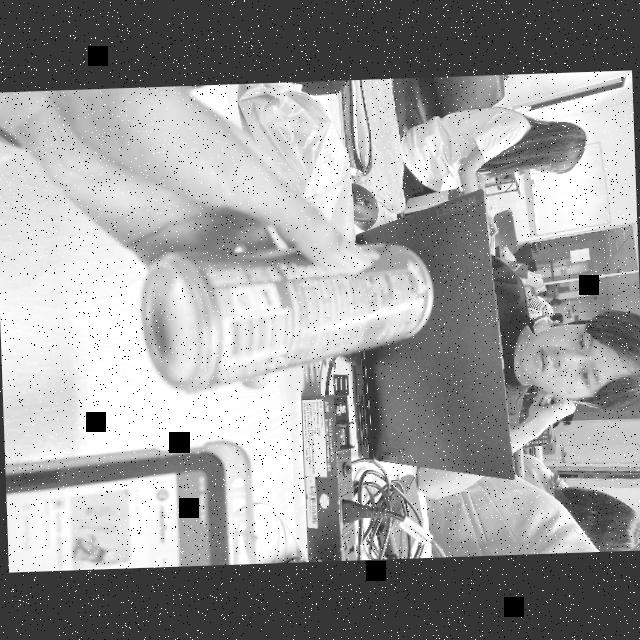can: (130, 220, 443, 392)
